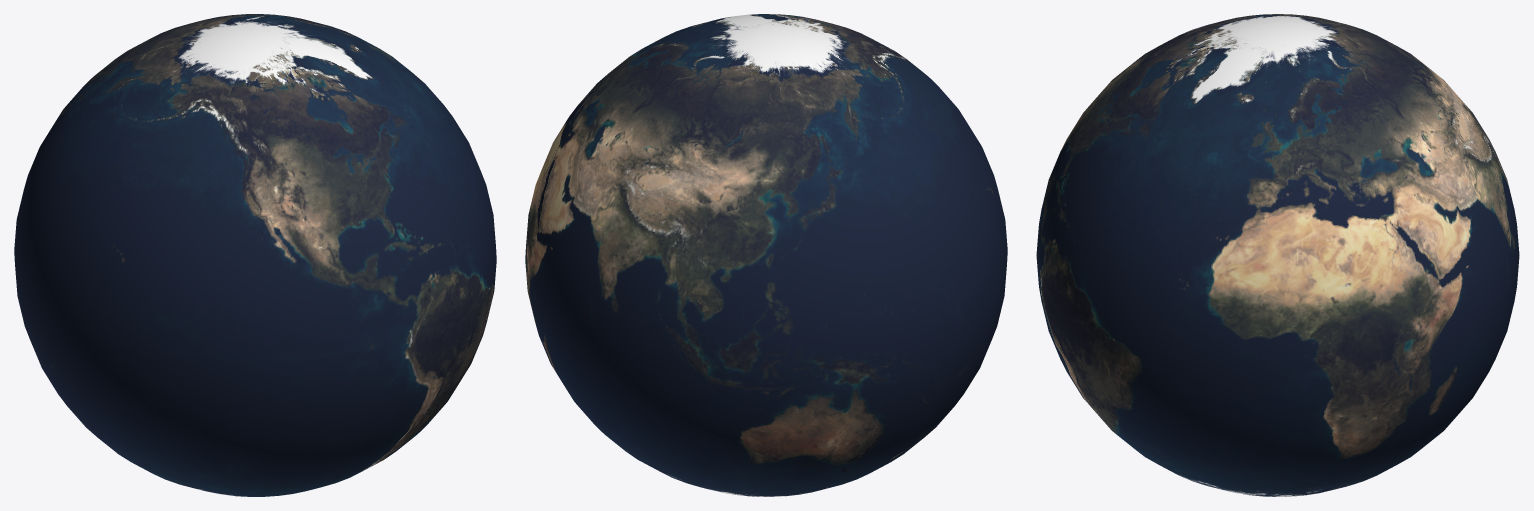
File: Earth.glb
3 renders of one model, left to right at view 1: azimuth 30°, elevation 25°; view 2: azimuth 150°, elevation 25°; view 3: azimuth 270°, elevation 25°, orthographic.
Parts seen in each view (by area): view 1: Earth; view 2: Earth; view 3: Earth.
Boxes of the visible parts, x1,y1,x2,y2 form: Earth: [14, 14, 496, 496]; Earth: [525, 14, 1007, 496]; Earth: [1036, 14, 1519, 496].
Bounding box in the file's own units: 160 × 160 × 160.
Materials: 1 (1 with a texture image).
